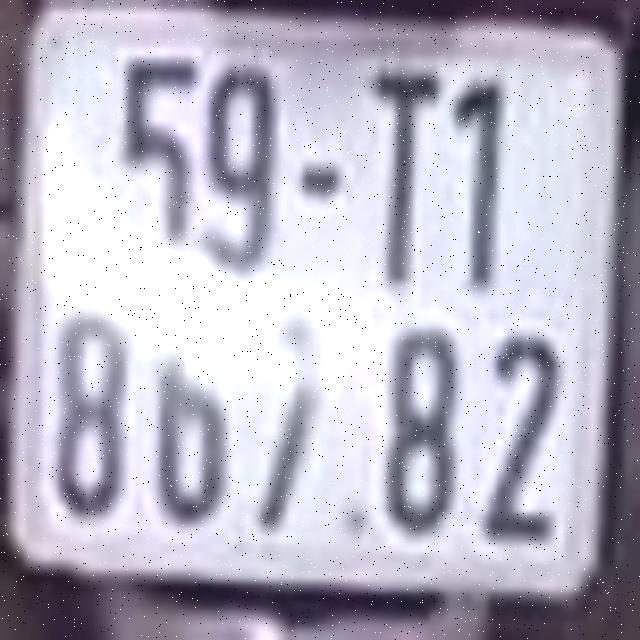1: (453, 74, 504, 287)
2: (487, 333, 561, 541)
5: (119, 53, 196, 278)
6: (157, 316, 230, 524)
7: (254, 312, 322, 530)
8: (56, 313, 126, 518), (388, 326, 456, 534)
9: (205, 63, 275, 275)
T: (372, 69, 440, 284)
